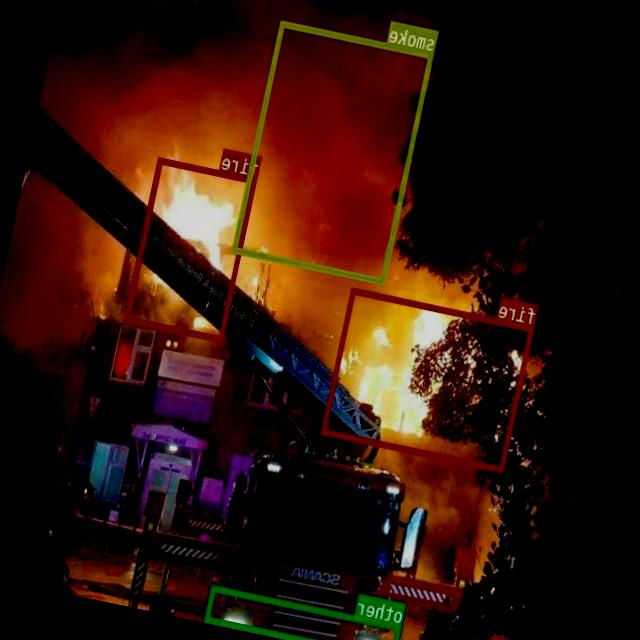fire: (322, 287, 535, 472), (125, 156, 258, 342)
smoke: (232, 20, 434, 284)
